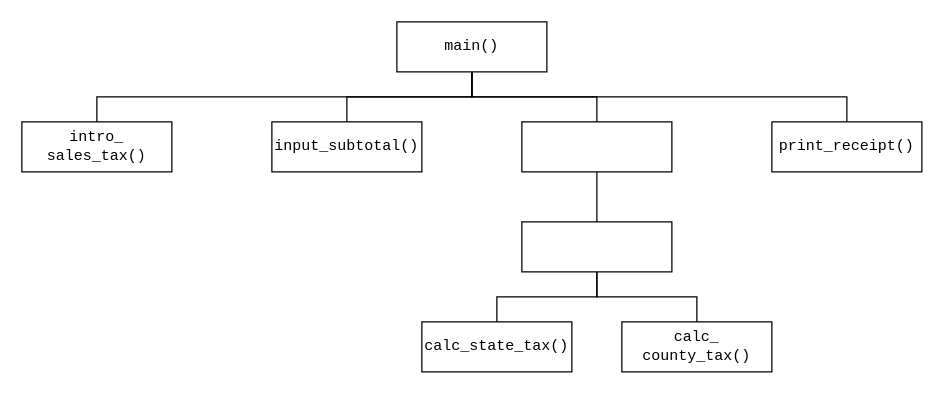
This 944x401 diagram has some shape labels left out. The shapes that lost their labels are listed below. From the top down, each one's box as (x1, y1, x2, y2) in pixels, then its label:
(521, 121, 672, 172): calc_receipt()
(521, 221, 672, 272): calc_tax()
